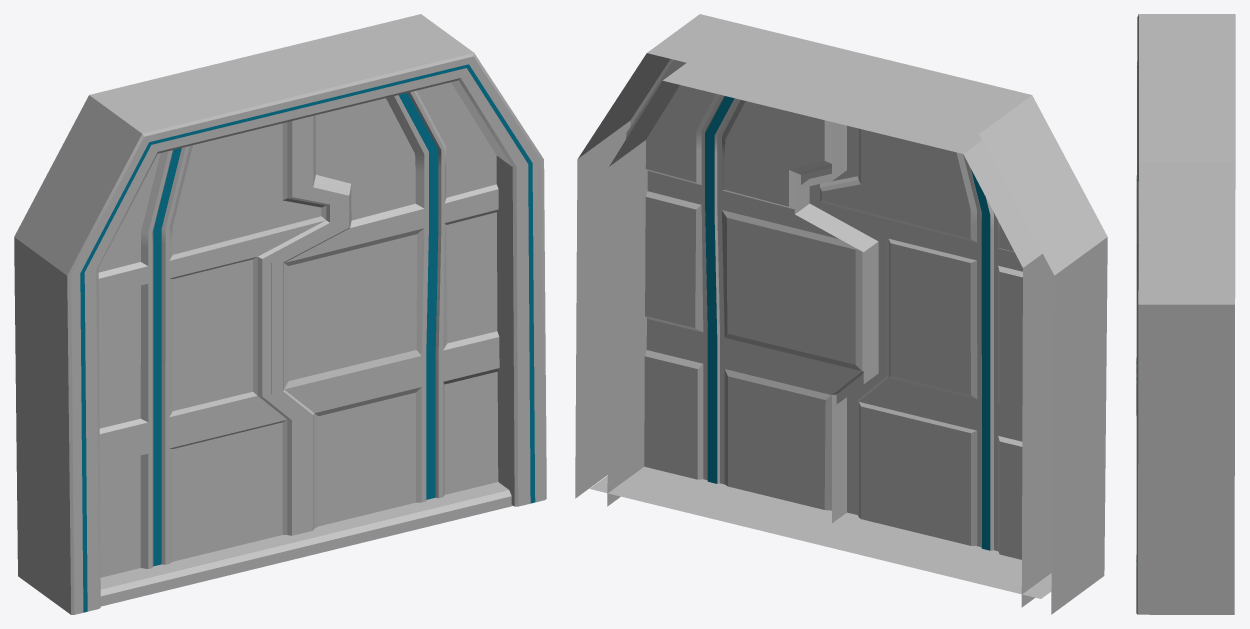
Rendered from door.fbx.
The picture shows the model from 3 angles, left to right: view 1: azimuth 30°, elevation 25°; view 2: azimuth 150°, elevation 25°; view 3: azimuth 270°, elevation 25°; orthographic projection. The views are drawn at different scales.
Parts seen in each view (by area): view 1: pPipe1, pCube2, pCube1, pCube3; view 2: pPipe1, pCube2, pCube1, pCube3; view 3: pPipe1.
Boxes of the visible parts, x1,y1,x2,y2 form: pPipe1: [14, 14, 546, 614]; pCube2: [271, 82, 499, 532]; pCube1: [98, 118, 340, 577]; pCube3: [100, 482, 512, 606]; pPipe1: [575, 14, 1107, 614]; pCube2: [626, 60, 878, 522]; pCube1: [794, 122, 1022, 559]; pCube3: [589, 466, 1051, 598]; pPipe1: [1136, 14, 1235, 614].
Bounding box in the file's own units: 4.41 × 4.09 × 0.8688.
